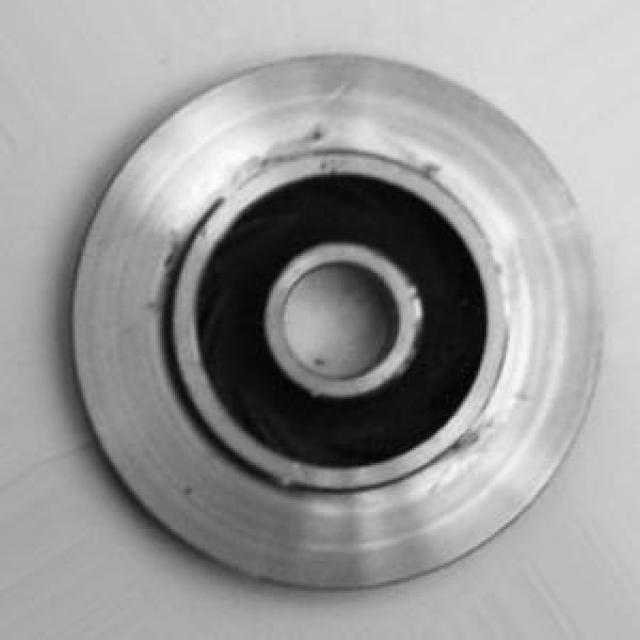Defect: (236, 137, 336, 172)
